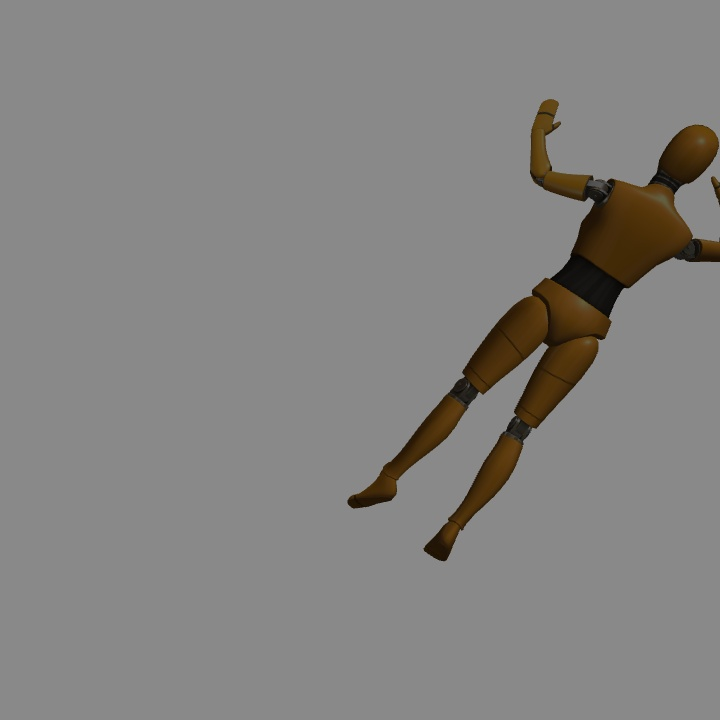victim: (355, 121, 720, 559)
